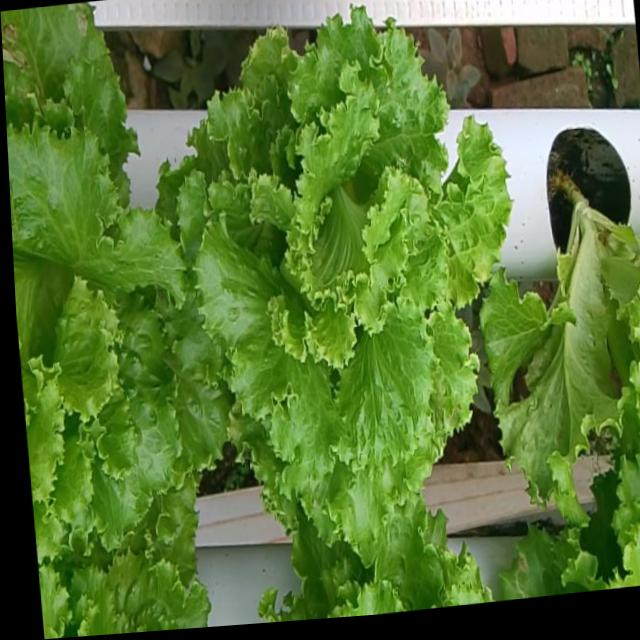Mature: (172, 0, 509, 536), (6, 105, 225, 542)
